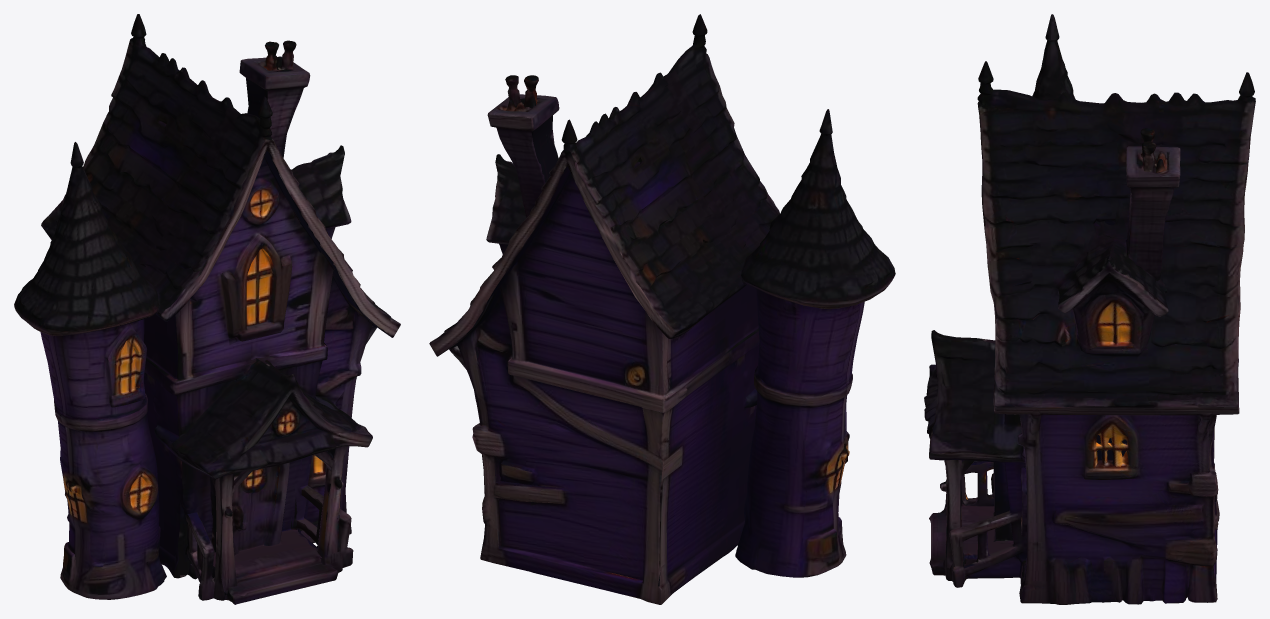
3 renders of one model, left to right at view 1: azimuth 30°, elevation 25°; view 2: azimuth 150°, elevation 25°; view 3: azimuth 270°, elevation 25°, orthographic. The views are drawn at different scales.
Parts seen in each view (by area): view 1: textured_mesh_0; view 2: textured_mesh_0; view 3: textured_mesh_0.
Part boxes in pixels (x1=…): textured_mesh_0: x1=14, y1=14, x2=400, y2=604; textured_mesh_0: x1=429, y1=14, x2=895, y2=604; textured_mesh_0: x1=924, y1=14, x2=1255, y2=604.
Size of the model in its own units: 1.53 by 1.98 by 1.21.
Materials: 1 (1 with a texture image).
